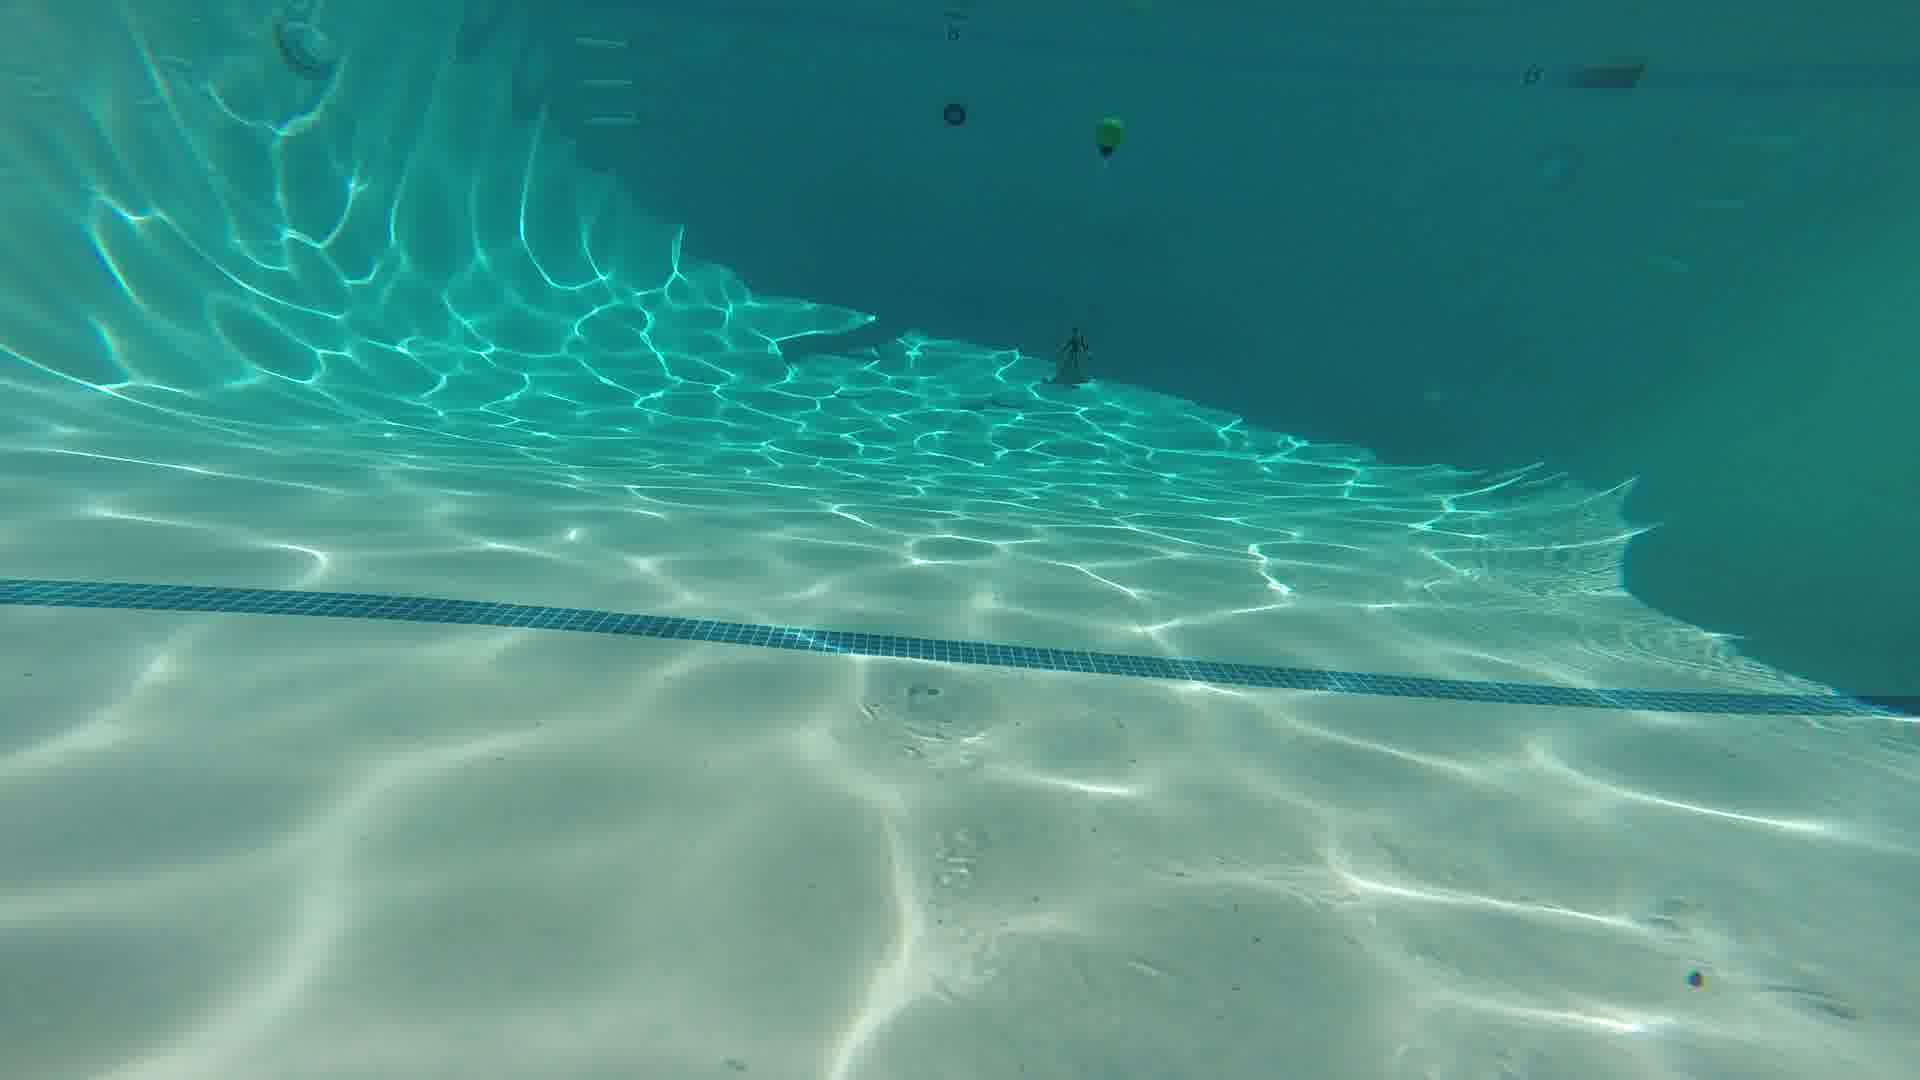yellow_buoy: (1087, 109, 1124, 171)
